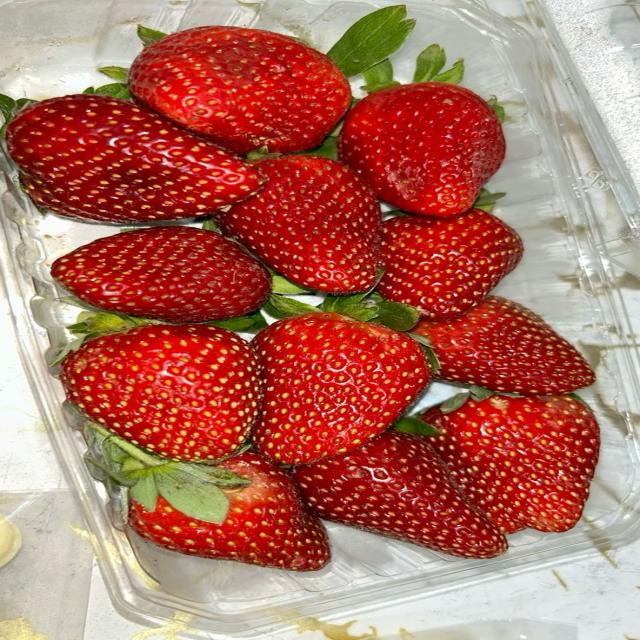strawberry: (7, 95, 260, 222), (129, 26, 350, 153), (252, 312, 431, 464), (294, 430, 506, 558), (61, 325, 260, 461), (422, 395, 599, 533), (128, 452, 330, 571), (216, 156, 380, 293), (339, 82, 505, 217), (52, 226, 270, 323), (413, 296, 594, 394), (378, 209, 522, 321)
